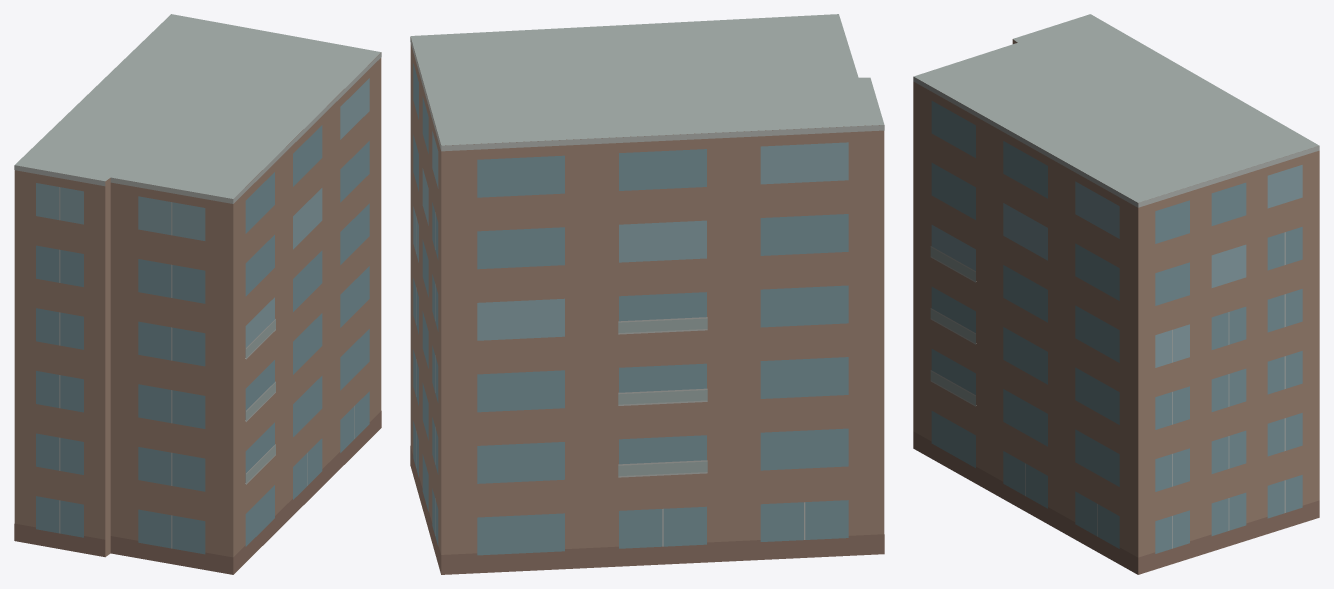
Rendered from survey-upis-32941875.glb.
3 renders of one model, left to right at view 1: azimuth 30°, elevation 25°; view 2: azimuth 150°, elevation 25°; view 3: azimuth 270°, elevation 25°, orthographic. The views are drawn at different scales.
Visible parts, largest first — view 1: survey-upis-32941875.tmp; view 2: survey-upis-32941875.tmp; view 3: survey-upis-32941875.tmp.
Boxes of the visible parts, bbox=[...] form: survey-upis-32941875.tmp: bbox=[14, 14, 381, 574]; survey-upis-32941875.tmp: bbox=[410, 14, 884, 574]; survey-upis-32941875.tmp: bbox=[913, 14, 1319, 574].
Size of the model in its own units: 19.99 by 18.35 by 18.16.
